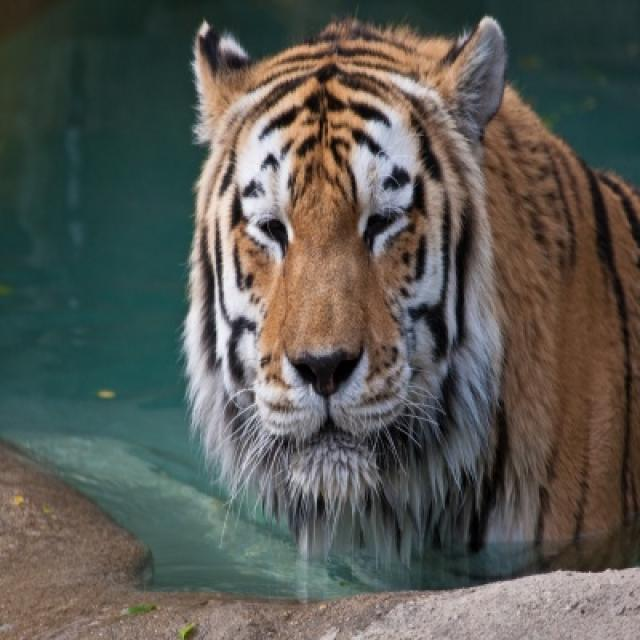Tiger: (182, 18, 635, 563)
